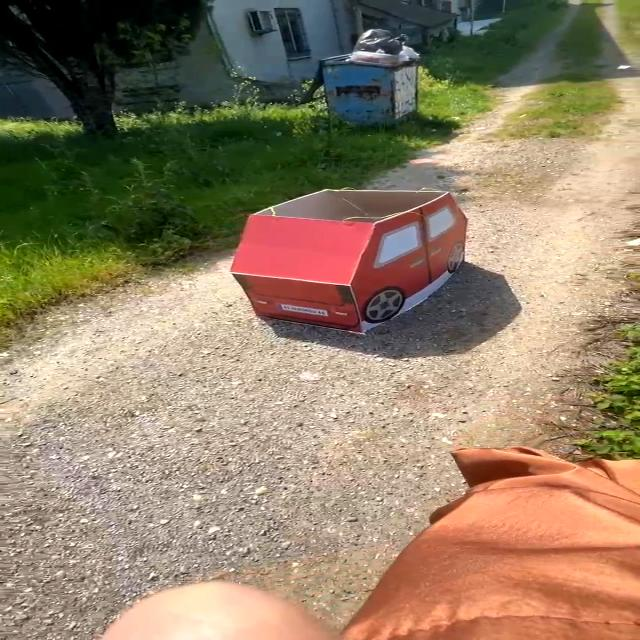red_car: (219, 176, 495, 348)
